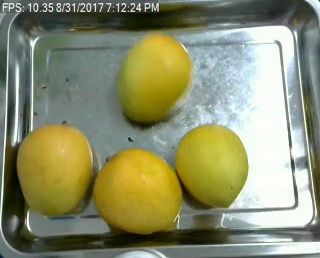Mango: (108, 31, 199, 127), (90, 145, 185, 233), (12, 121, 96, 218), (173, 120, 251, 211)
